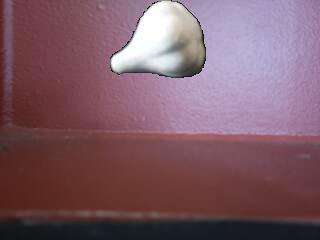Garlic: (106, 1, 207, 80)
